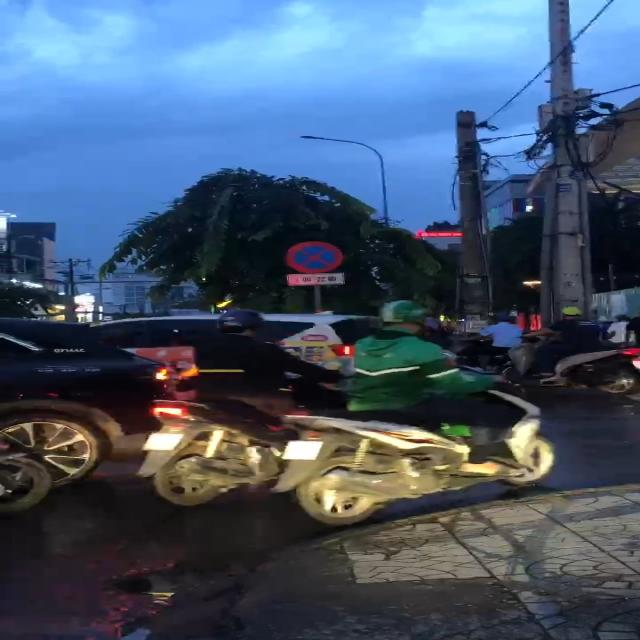Bien bao cam dung xe va do xe: (281, 239, 348, 274)
